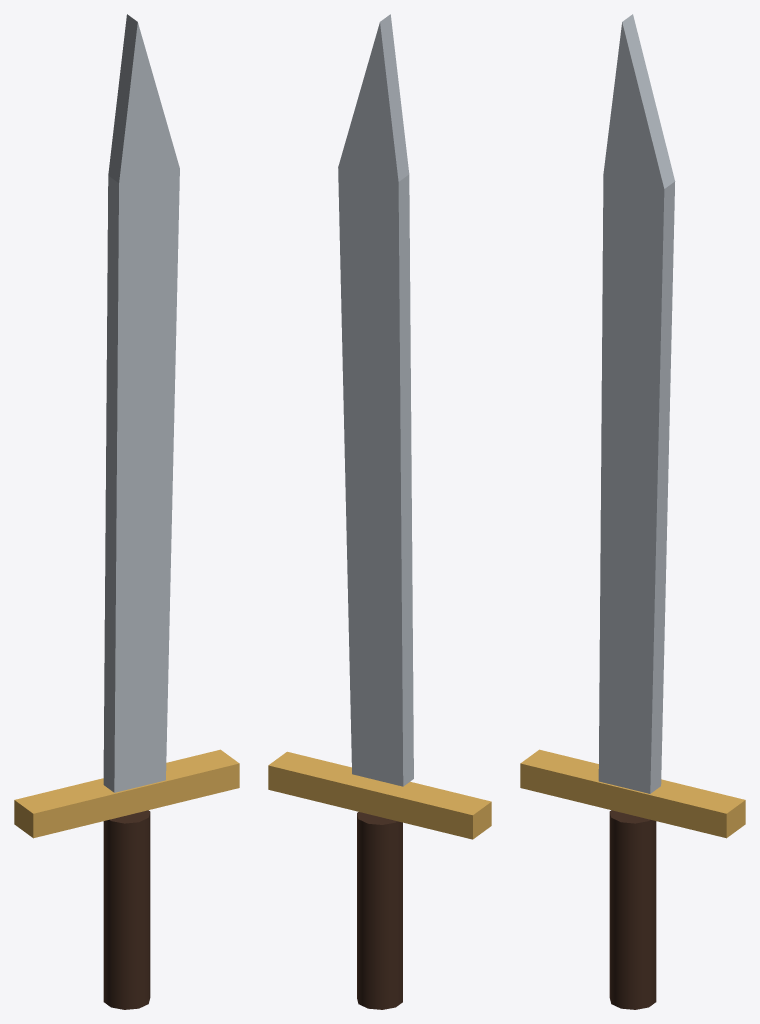
The model's file is celt-longsword.glb.
3 views of the same model, side by side, from view 1: azimuth 30°, elevation 25°; view 2: azimuth 150°, elevation 25°; view 3: azimuth 330°, elevation 25° (orthographic).
Visible parts, largest first — view 1: Blade, Grip, Guard; view 2: Blade, Guard, Grip; view 3: Blade, Grip, Guard.
Part boxes in pixels (x1,y1,x2,y2): Blade: (103, 14, 179, 792); Grip: (103, 810, 150, 1009); Guard: (14, 749, 239, 838); Blade: (338, 14, 413, 786); Guard: (268, 751, 491, 839); Grip: (357, 812, 402, 1009); Blade: (598, 14, 675, 793); Grip: (609, 810, 656, 1009); Guard: (520, 749, 745, 838).
Size of the model in its own units: 0.22 by 1 by 0.044.
